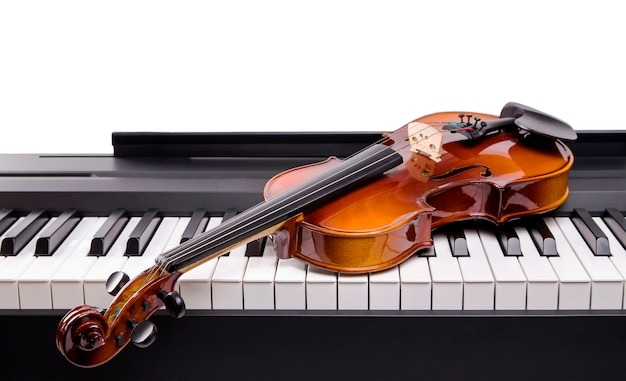Piano: (3, 118, 626, 352)
Violin: (68, 95, 578, 361)
